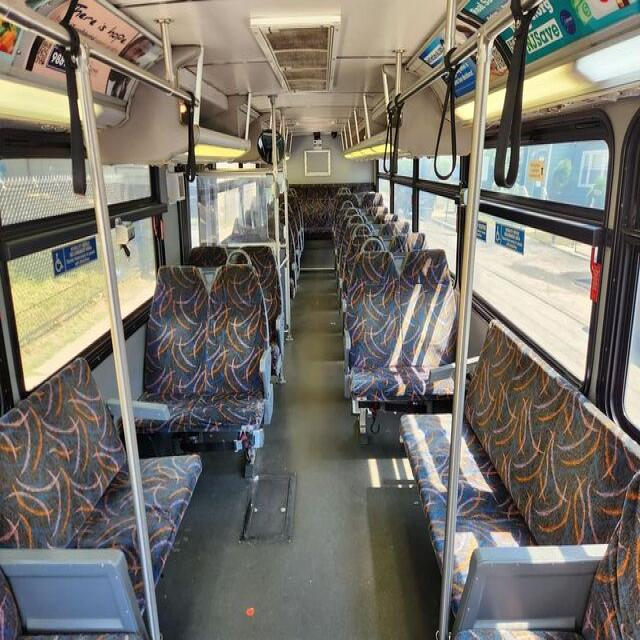empty-seat-frontal: (180, 249, 276, 449), (133, 263, 207, 442), (342, 237, 415, 406), (402, 248, 456, 396)
